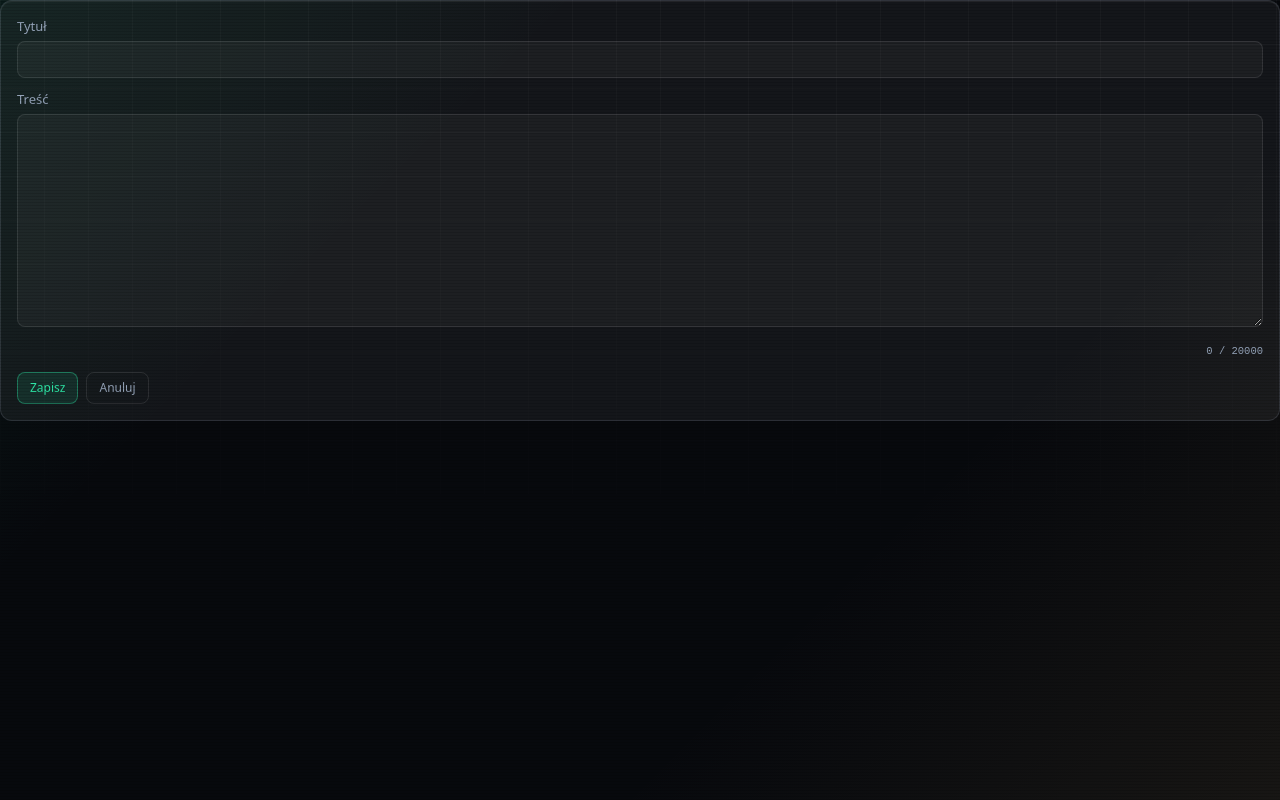
Scenario: FormularzWpisu › licznik znaków treści - przemyślenie ma dłuższy limit
The width and height of the screenshot is (1280, 800).
Type "abc" into the text box labelled "Treść" at {"x": 640, "y": 220}, box [17,114,1263,326]
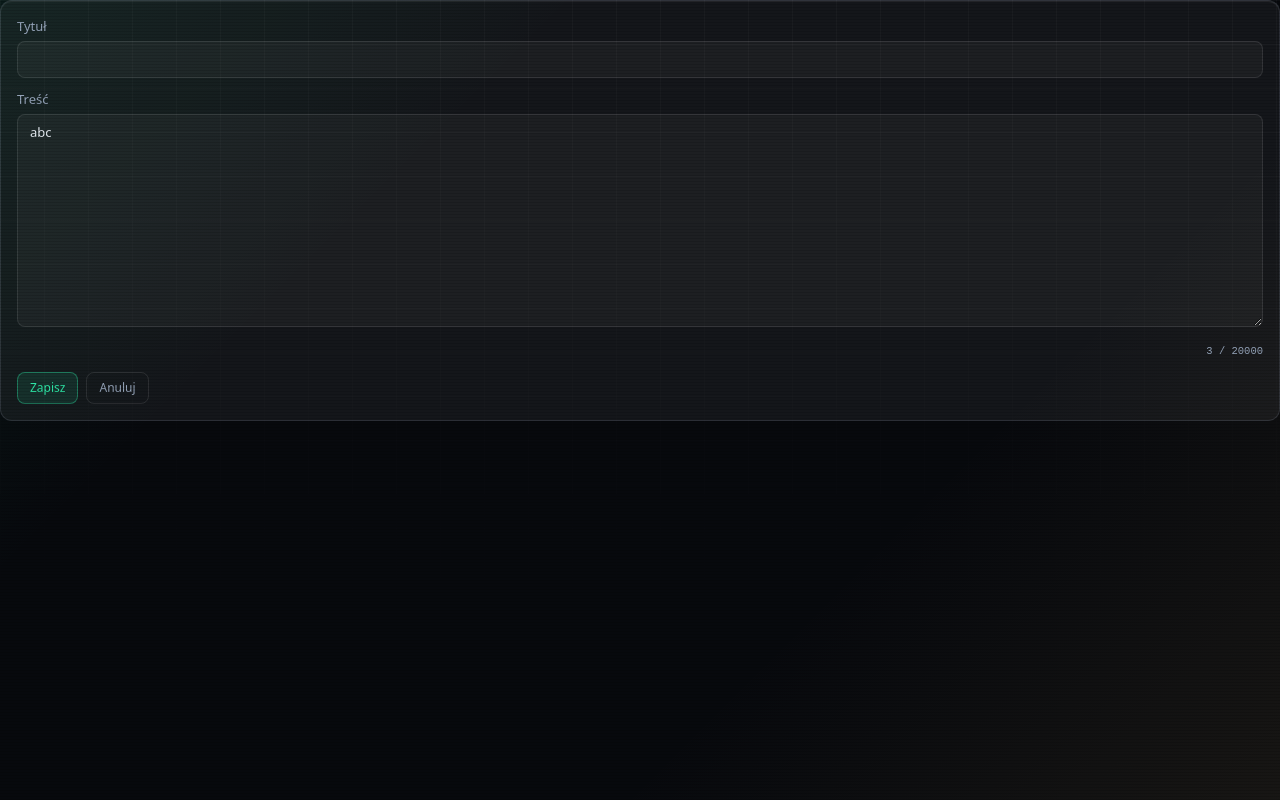
Check: the text "3 / 20000" is shown, box [1206,345,1263,357]
